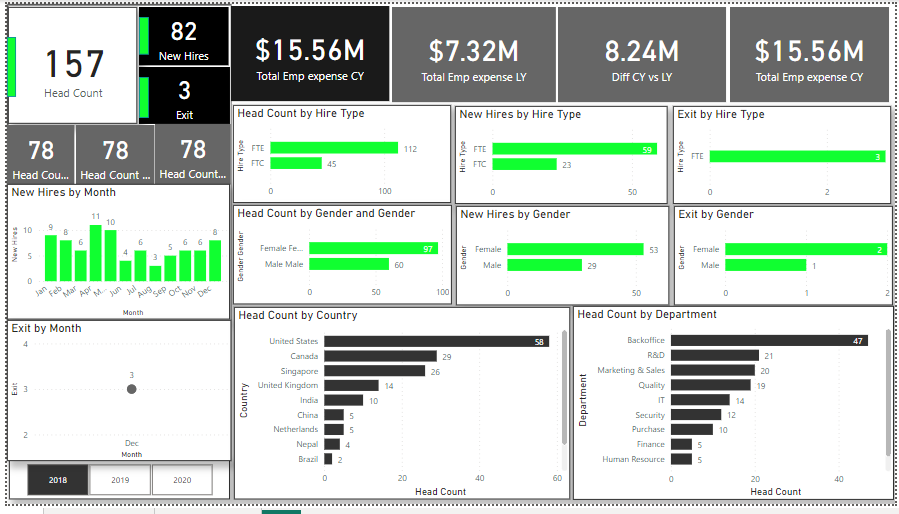

Layout of this report page (visuals, bound fields, positions):
{"tool":"powerbi","page":{"name":"Overview","canvas":[1280,720],"ordinal":0},"visuals":[{"type":"shape","box":[0,0,322.5,658.5],"z":0},{"type":"card","fields":{"Values":["All Measures.New Hires"]},"box":[189.8,5,129.3,84],"z":0,"group":"g1"},{"type":"card","fields":{"Values":["All Measures.Exit"]},"box":[189.8,90.7,131,82.3],"z":0,"group":"g2"},{"type":"barChart","fields":{"Y":["All Measures.Head Count"],"Category":["Employee Data.Hire Type"]},"box":[325.9,146.1,314.4,141.4],"z":0,"group":"g3"},{"type":"barChart","fields":{"Y":["All Measures.Head Count"],"Category":["Employee Data.Gender"]},"box":[325.4,289.4,315.4,142.6],"z":0,"group":"g4"},{"type":"shape","box":[189.8,19,14,54.4],"z":1000,"group":"g1"},{"type":"shape","box":[189.8,105.8,14.2,58.8],"z":1000,"group":"g2"},{"type":"barChart","fields":{"Category":["Employee Data.Hire Type"],"Y":["All Measures.New Hires"]},"box":[646,147.5,305.8,141.4],"z":1000,"group":"g3"},{"type":"barChart","fields":{"Y":["All Measures.New Hires"],"Category":["Employee Data.Gender"]},"box":[646.5,290.8,306.7,142.6],"z":1000,"group":"g4"},{"type":"slicer","fields":{"Values":["Calender.Year"]},"box":[2.9,655.2,318.2,57.6],"z":1000},{"type":"card","fields":{"Values":["All Measures.Head Count"]},"box":[1.7,5,186.5,168],"z":2000},{"type":"barChart","fields":{"Category":["Employee Data.Hire Type"],"Y":["All Measures.Exit"]},"box":[958.9,147.5,314.4,141.4],"z":2000,"group":"g3"},{"type":"barChart","fields":{"Y":["All Measures.Exit"],"Category":["Employee Data.Gender"]},"box":[960.4,290.8,315.4,142.6],"z":2000,"group":"g4"},{"type":"shape","box":[0,47,13.4,85.7],"z":3000},{"type":"group","id":"g1","title":"Group 1","box":[189.8,5,129.3,84],"z":4000},{"type":"group","id":"g2","title":"Group 1","box":[189.8,90.7,131,82.3],"z":5000},{"type":"card","fields":{"Values":["All Measures.Head Count LY"]},"box":[0,174.7,97.4,85.7],"z":6000},{"type":"card","fields":{"Values":["All Measures.New Hires LY"]},"box":[99.1,174.7,112.5,85.7],"z":7000},{"type":"card","fields":{"Values":["All Measures.Exit LY"]},"box":[213.3,173,109.2,87.3],"z":8000},{"type":"clusteredColumnChart","fields":{"Y":["All Measures.New Hires"],"Category":["Calender.Month"]},"box":[0,258.7,320.8,194.9],"z":9000},{"type":"lineChart","fields":{"Category":["Calender.Month"],"Y":["All Measures.Exit"]},"box":[0,455.2,322.5,203.3],"z":10000},{"type":"card","fields":{"Values":["All Measures.Total Emp expense CY"]},"box":[322.6,2.9,227.5,136.8],"z":11000},{"type":"card","fields":{"Values":["All Measures.Total Emp expense LY"]},"box":[554.4,4.3,236.2,136.8],"z":12000},{"type":"card","fields":{"Values":["All Measures.Diff CY vs LY"]},"box":[793.4,4.3,241.9,136.8],"z":13000},{"type":"card","fields":{"Values":["All Measures.% Diff CY vs LY"]},"box":[1041.1,4.3,229,136.8],"z":14000},{"type":"group","id":"g3","title":"Group 2","box":[325.9,146.1,947.4,142.8],"z":15000},{"type":"group","id":"g4","title":"Group 2","box":[325.4,289.4,950.4,144],"z":16000},{"type":"barChart","fields":{"Category":["Employee Data.Country"],"Y":["All Measures.Head Count"]},"box":[327.6,436.7,483.8,277.2],"z":17000},{"type":"barChart","fields":{"Y":["All Measures.Head Count"],"Category":["Employee Data.Department"]},"box":[814.7,435.1,461.9,278.8],"z":18000}]}

Visuals, with their boxes in screenshot pixels (x1, y1, x2, y2), scaled from the page's 1280x720 canvas onto the 899x514 screenshot:
shape: locate(0, 0, 227, 470)
card - All Measures.New Hires: locate(133, 4, 224, 64)
card - All Measures.Exit: locate(133, 65, 225, 124)
barChart - All Measures.Head Count x Employee Data.Hire Type: locate(229, 104, 450, 205)
barChart - All Measures.Head Count x Employee Data.Gender: locate(229, 207, 450, 308)
shape: locate(133, 14, 143, 52)
shape: locate(133, 76, 143, 118)
barChart - Employee Data.Hire Type x All Measures.New Hires: locate(454, 105, 668, 206)
barChart - All Measures.New Hires x Employee Data.Gender: locate(454, 208, 669, 309)
slicer - Calender.Year: locate(2, 468, 226, 509)
card - All Measures.Head Count: locate(1, 4, 132, 124)
barChart - Employee Data.Hire Type x All Measures.Exit: locate(673, 105, 894, 206)
barChart - All Measures.Exit x Employee Data.Gender: locate(675, 208, 896, 309)
shape: locate(0, 34, 9, 95)
"Group 1" group: locate(133, 4, 224, 64)
"Group 1" group: locate(133, 65, 225, 124)
card - All Measures.Head Count LY: locate(0, 125, 68, 186)
card - All Measures.New Hires LY: locate(70, 125, 149, 186)
card - All Measures.Exit LY: locate(150, 124, 227, 186)
clusteredColumnChart - All Measures.New Hires x Calender.Month: locate(0, 185, 225, 324)
lineChart - Calender.Month x All Measures.Exit: locate(0, 325, 227, 470)
card - All Measures.Total Emp expense CY: locate(227, 2, 386, 100)
card - All Measures.Total Emp expense LY: locate(389, 3, 555, 101)
card - All Measures.Diff CY vs LY: locate(557, 3, 727, 101)
card - All Measures.% Diff CY vs LY: locate(731, 3, 892, 101)
"Group 2" group: locate(229, 104, 894, 206)
"Group 2" group: locate(229, 207, 896, 309)
barChart - Employee Data.Country x All Measures.Head Count: locate(230, 312, 570, 510)
barChart - All Measures.Head Count x Employee Data.Department: locate(572, 311, 897, 510)
